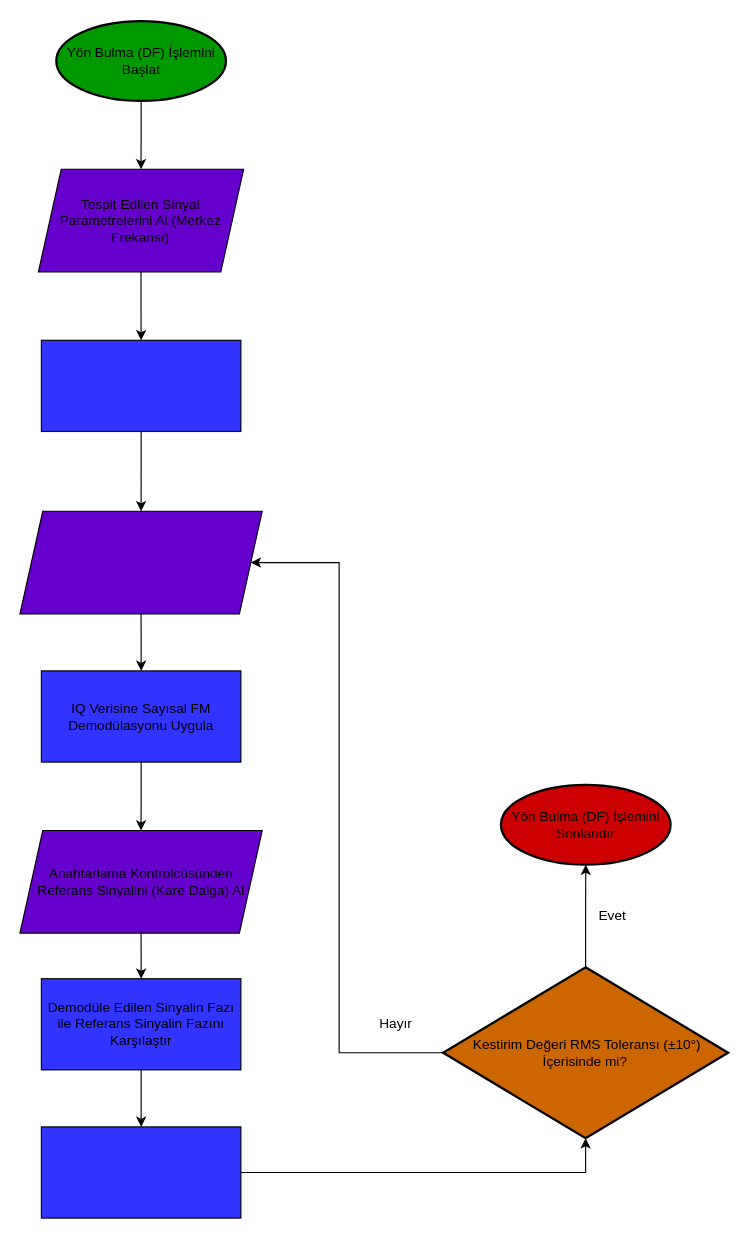
Image size: 749x1238. Some labels were removed from this diagram. Here are the shapes that lost their labels. From the top down, the centre of each, then its label:
At point (140, 385): "Anten Dizisini Yüksek Hızda Anahtarla (Yapay Doppler Kayması Oluştur)".
At point (140, 562): "SDR'dan (HackRF) Yapay Modülasyonlu Ham IQ Verisini Al".
At point (140, 1172): "Faz Farkından Geliş Açısını (AoA) Kestir".
